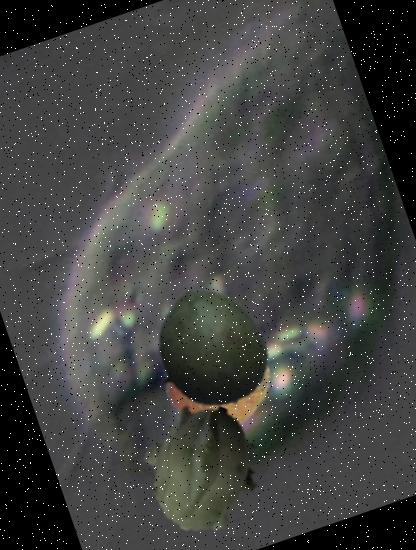Kohlrabi: (122, 386, 285, 550)
Mandarine: (150, 312, 286, 448)
Mango: (132, 270, 288, 426)
